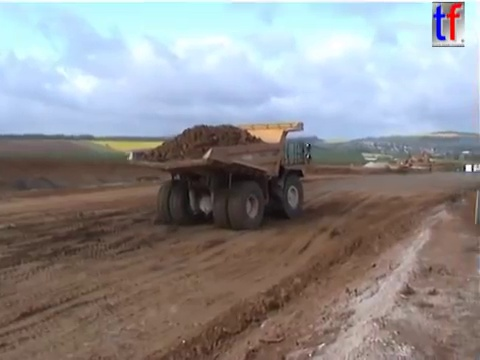truck: (124, 119, 312, 231)
